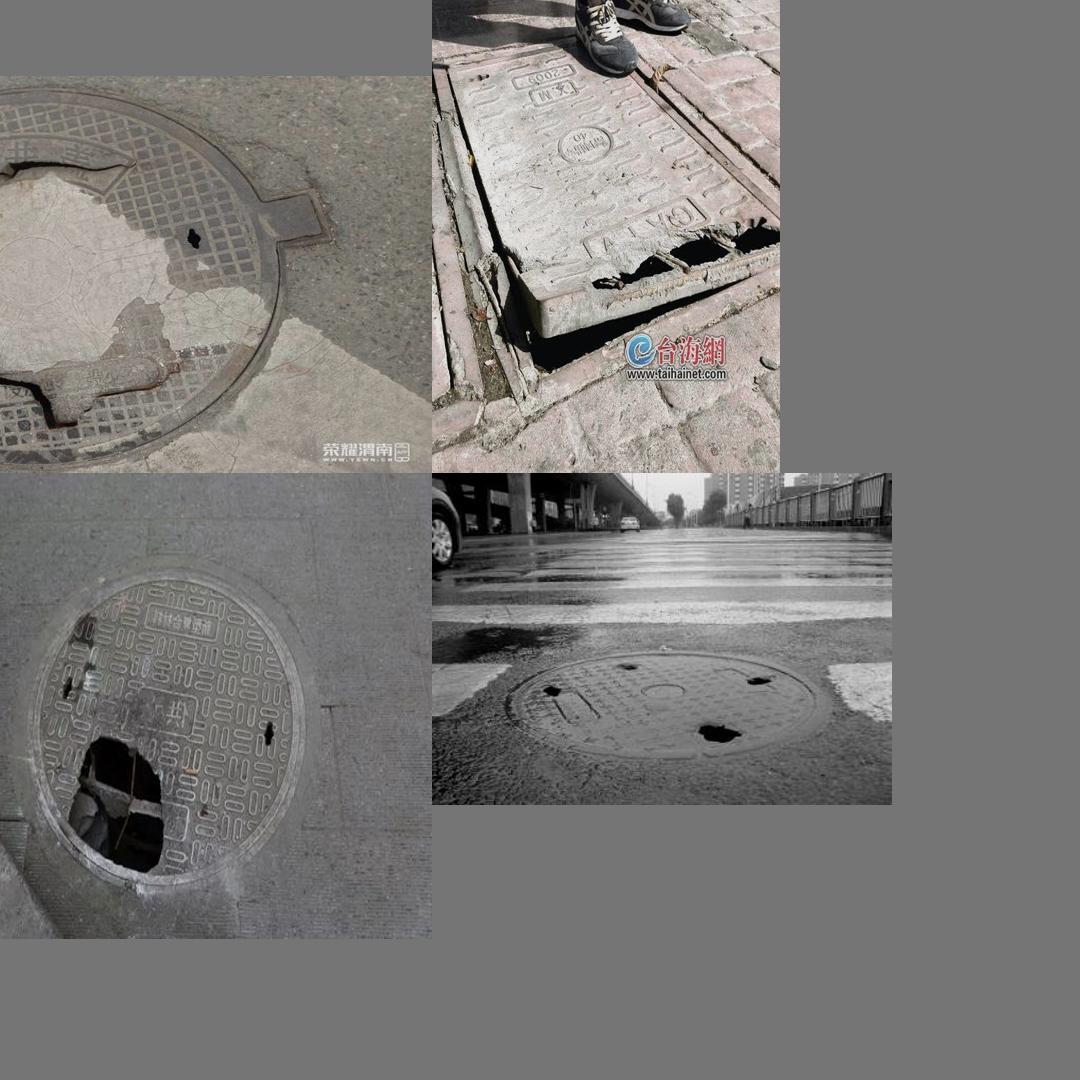broke: (444, 46, 780, 389), (0, 82, 293, 469), (17, 549, 317, 891), (500, 660, 857, 753)
